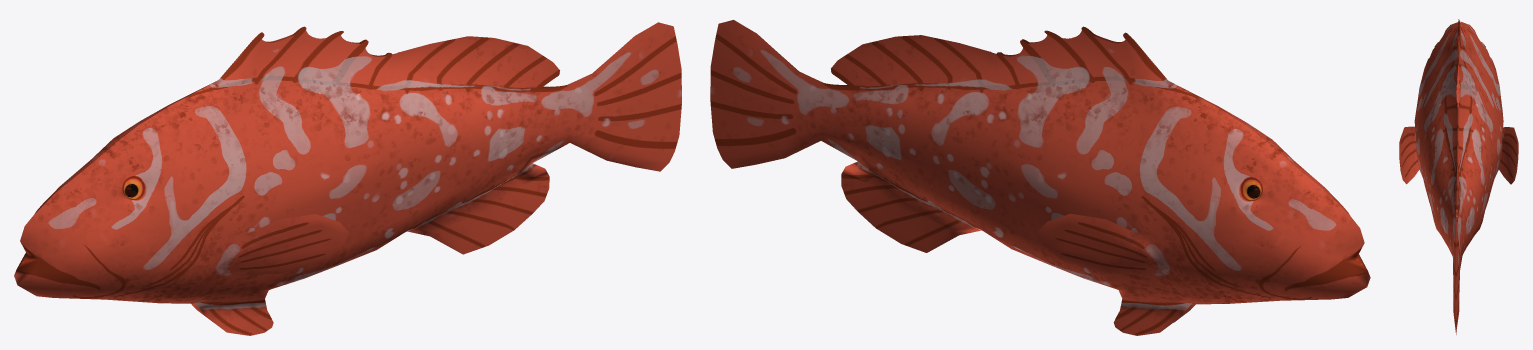
The model's file is Grouper00.fbx.
3 views of the same model, side by side, from view 1: azimuth 30°, elevation 25°; view 2: azimuth 150°, elevation 25°; view 3: azimuth 270°, elevation 25° (orthographic). The views are drawn at different scales.
Visible parts, largest first — view 1: Grouper; view 2: Grouper; view 3: Grouper.
Part boxes in pixels (left/top/right/bottom): Grouper: left=14, top=22, right=681, bottom=335; Grouper: left=710, top=20, right=1370, bottom=335; Grouper: left=1399, top=19, right=1518, bottom=334.
Size of the model in its own units: 5.6 by 2.46 by 1.18.
